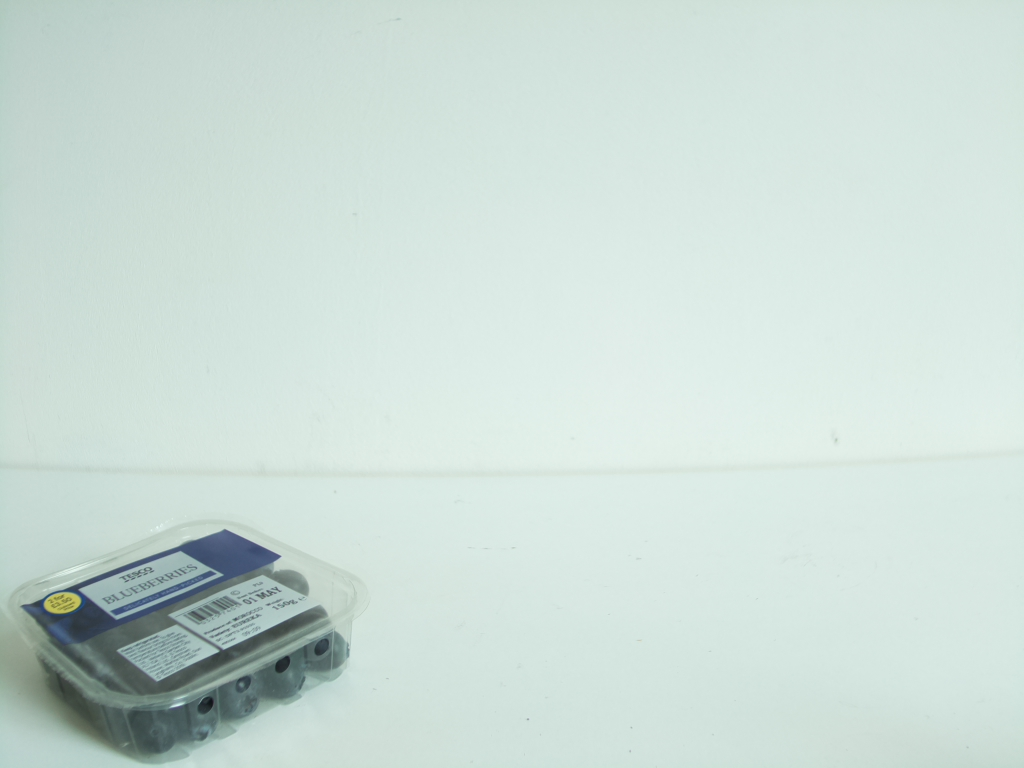soft-fruit: (19, 528, 361, 756)
